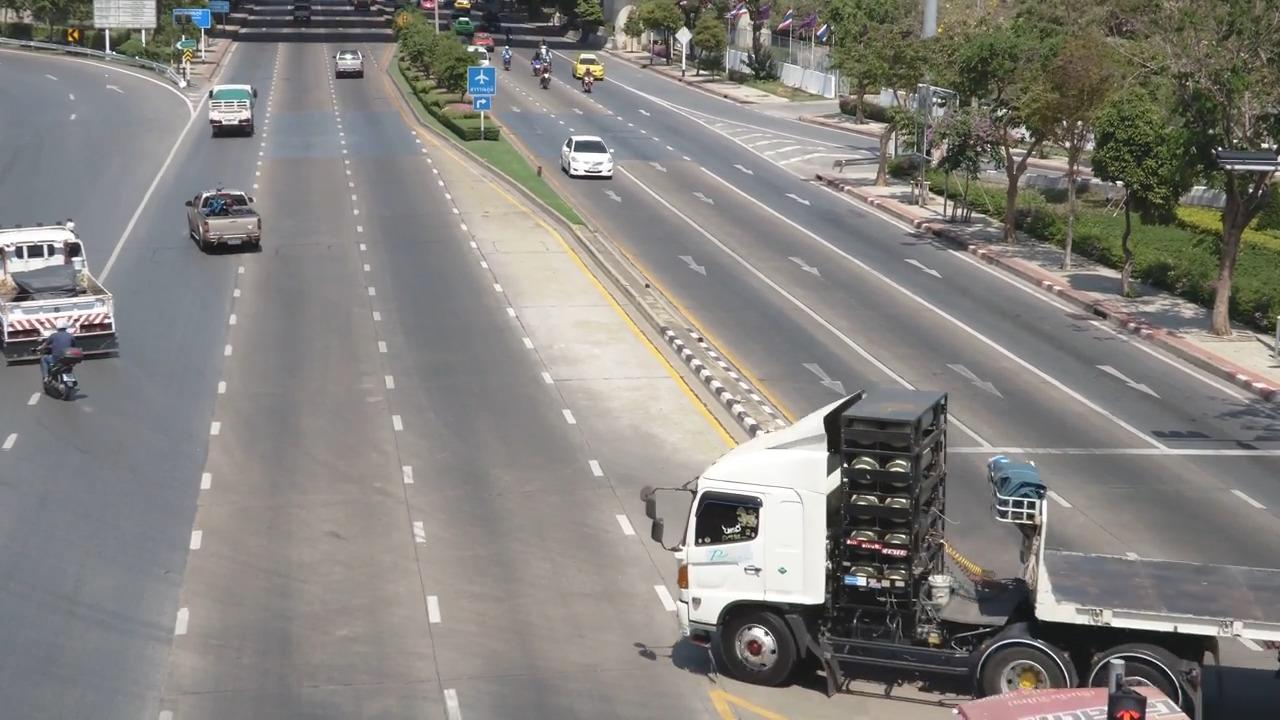CAR: (1, 214, 128, 358), (181, 182, 278, 261), (194, 72, 274, 153), (555, 125, 626, 200), (320, 43, 377, 87), (281, 0, 326, 43), (569, 45, 612, 82)
HGV_BUS: (622, 363, 1279, 720)
MOTOR: (34, 319, 100, 420)
